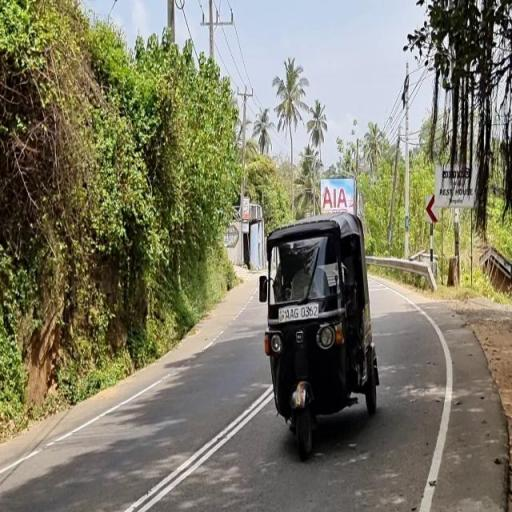double_white_line: (119, 384, 272, 511)
